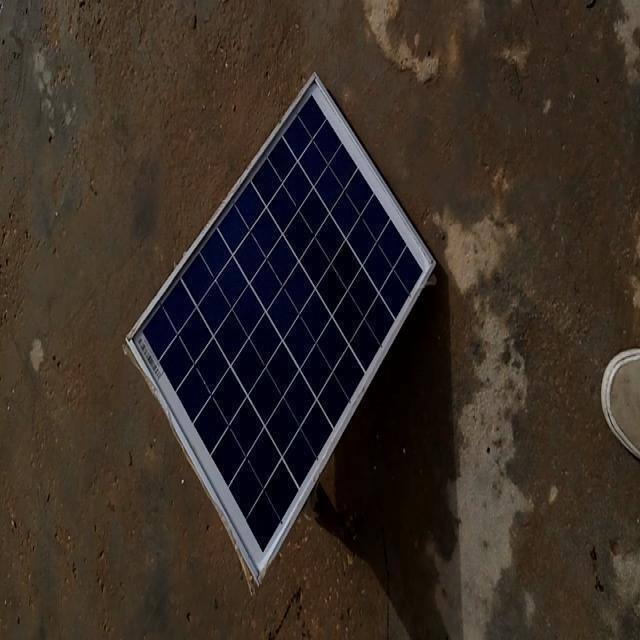Normal Solar Panel: (126, 73, 436, 583)
